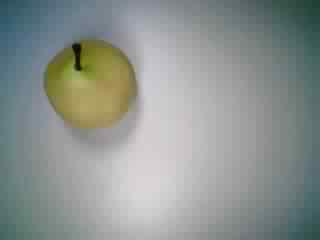pear: (34, 30, 143, 132)
